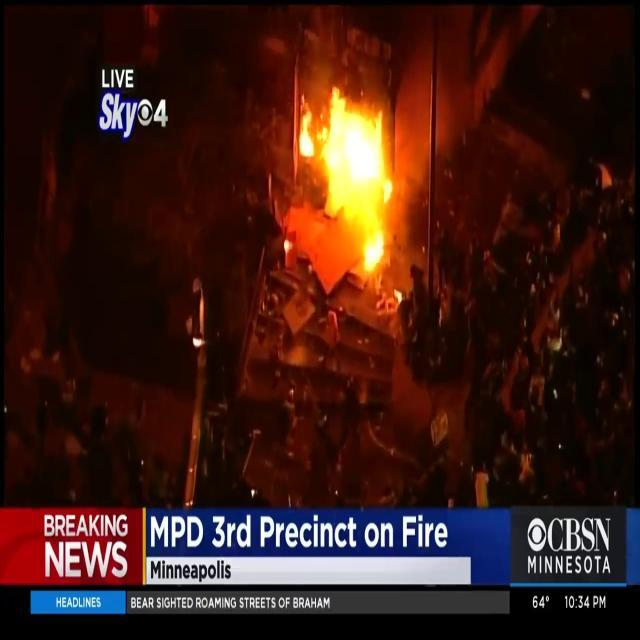Fire: (292, 82, 406, 275)
